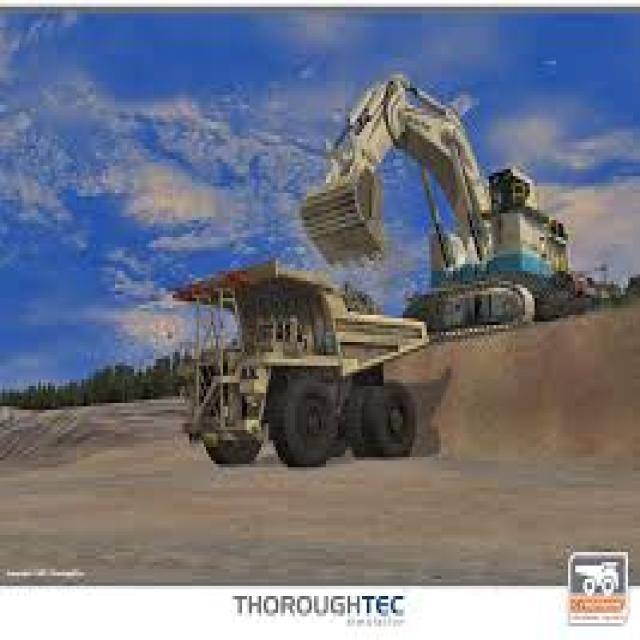dump_truck: (160, 237, 446, 505)
excavator: (290, 64, 606, 356)
